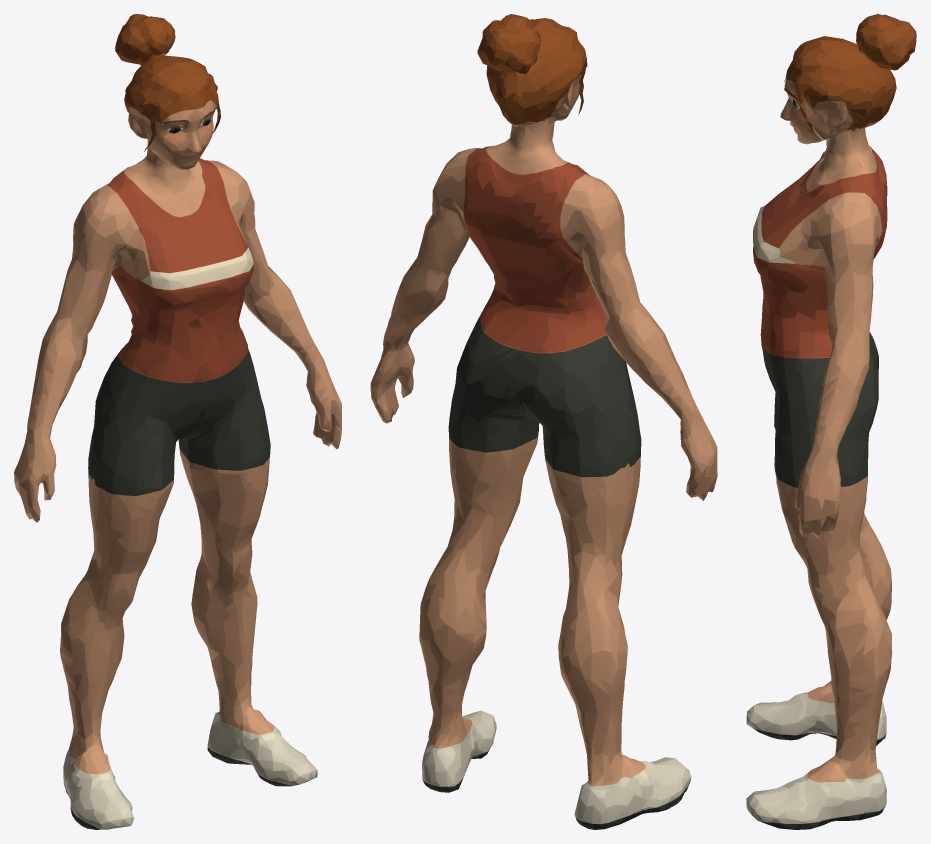
The picture shows the model from 3 angles, left to right: view 1: azimuth 30°, elevation 25°; view 2: azimuth 150°, elevation 25°; view 3: azimuth 270°, elevation 25°; orthographic projection. The views are drawn at different scales.
Parts seen in each view (by area): view 1: Skin, Singlet binding, Charcoal shorts, Copper hair, Ivory shoes, Cream stripe, Terracotta singlet; view 2: Skin, Charcoal shorts, Singlet binding, Copper hair, Ivory shoes, Shoe soles; view 3: Skin, Singlet binding, Copper hair, Charcoal shorts, Ivory shoes, Shoe soles, Cream stripe, Terracotta singlet, Shoe straps.
Boxes of the visible parts, x1=… form: Skin: x1=14, y1=100, x2=341, y2=774; Singlet binding: x1=107, y1=158, x2=253, y2=382; Charcoal shorts: x1=88, y1=348, x2=270, y2=495; Copper hair: x1=115, y1=14, x2=220, y2=151; Ivory shoes: x1=63, y1=711, x2=317, y2=829; Cream stripe: x1=141, y1=247, x2=253, y2=290; Terracotta singlet: x1=106, y1=160, x2=248, y2=382; Skin: x1=370, y1=74, x2=717, y2=786; Charcoal shorts: x1=448, y1=305, x2=641, y2=477; Singlet binding: x1=463, y1=146, x2=606, y2=352; Copper hair: x1=477, y1=14, x2=587, y2=124; Ivory shoes: x1=422, y1=710, x2=691, y2=823; Shoe soles: x1=422, y1=749, x2=688, y2=829; Skin: x1=774, y1=76, x2=892, y2=782; Singlet binding: x1=753, y1=146, x2=887, y2=357; Copper hair: x1=786, y1=14, x2=916, y2=131; Charcoal shorts: x1=761, y1=332, x2=878, y2=487; Ivory shoes: x1=746, y1=691, x2=886, y2=823; Shoe soles: x1=753, y1=728, x2=885, y2=829; Cream stripe: x1=753, y1=206, x2=796, y2=263; Terracotta singlet: x1=761, y1=147, x2=882, y2=358; Shoe straps: x1=799, y1=692, x2=829, y2=813.
Bounding box in the file's own units: 0.4385 × 0.9888 × 0.2006.
